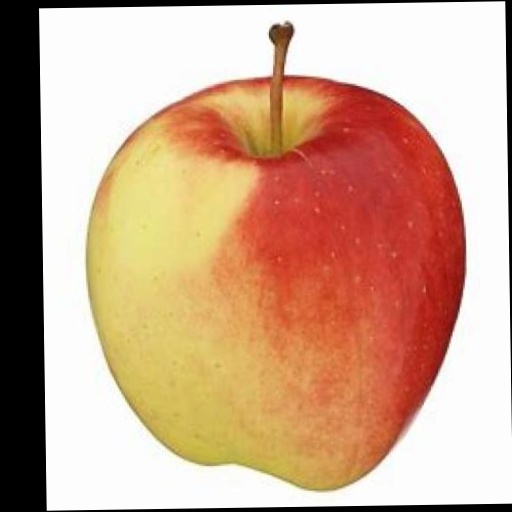fruit: (86, 25, 464, 489)
